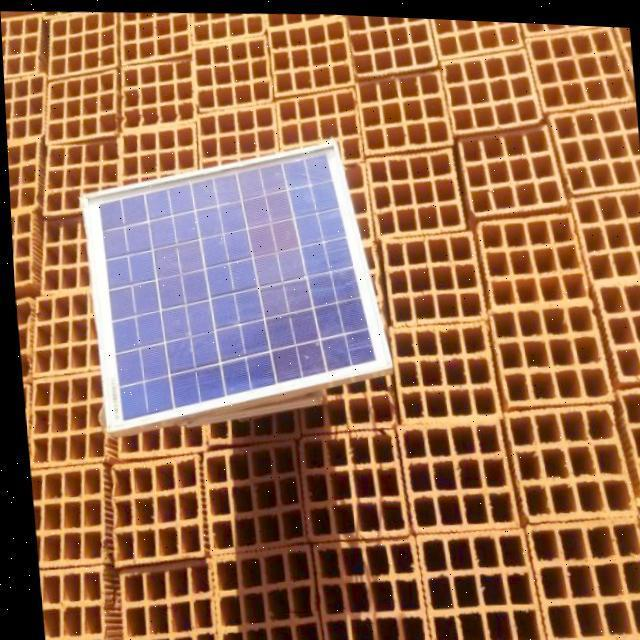Normal Solar Panel: (76, 128, 392, 440)
